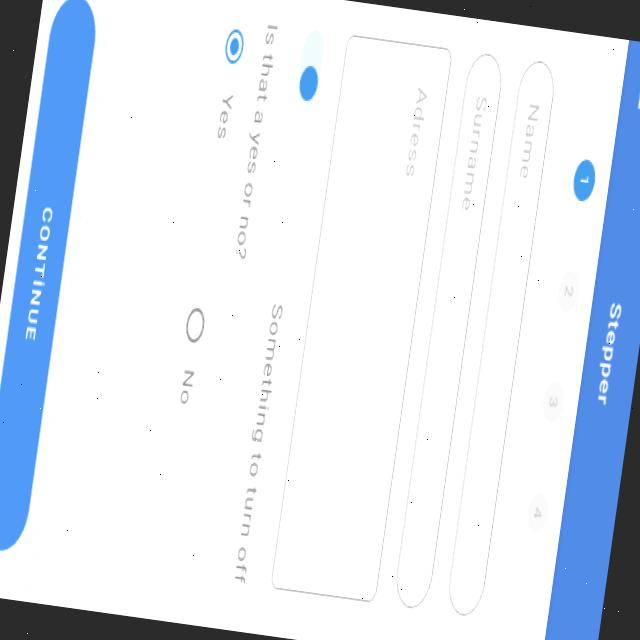QLabel: (228, 292, 286, 598), (232, 14, 280, 260), (20, 204, 54, 350), (594, 300, 622, 410)
VAppBar: (542, 40, 640, 640)
VBtn: (0, 0, 100, 554)
VFooter: (0, 0, 114, 601)
VIcon: (635, 72, 640, 114)
VRadio: (210, 26, 248, 144), (173, 305, 206, 408)
VStepper: (521, 152, 600, 538)
VSwitch: (294, 27, 326, 105)
VTextField: (389, 48, 506, 616), (442, 60, 558, 620)
VTextarea: (265, 31, 454, 608)
